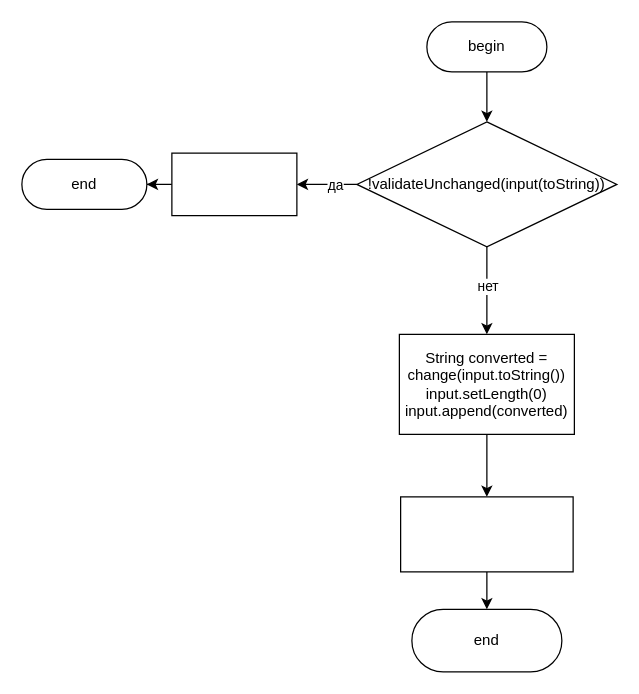
This 639x694 diagram has some shape labels left out. The box of each missing label's shape, as (x1, y1, x2, y2) in pixels:
return false: (171, 152, 297, 216)
return validate2(input.toString()): (399, 496, 573, 572)
